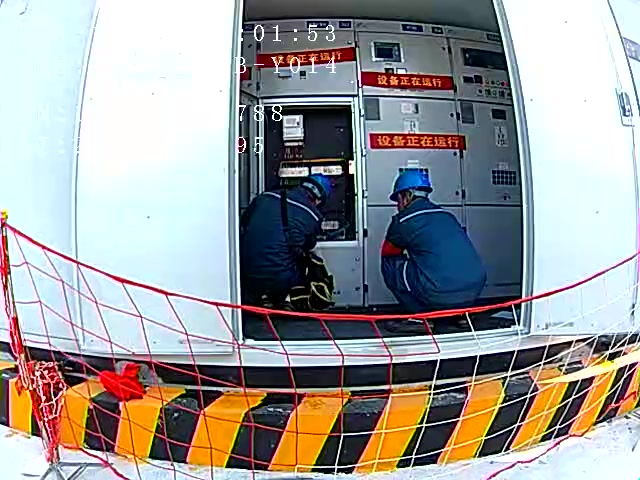halt: (392, 171, 436, 211), (297, 175, 335, 209)
